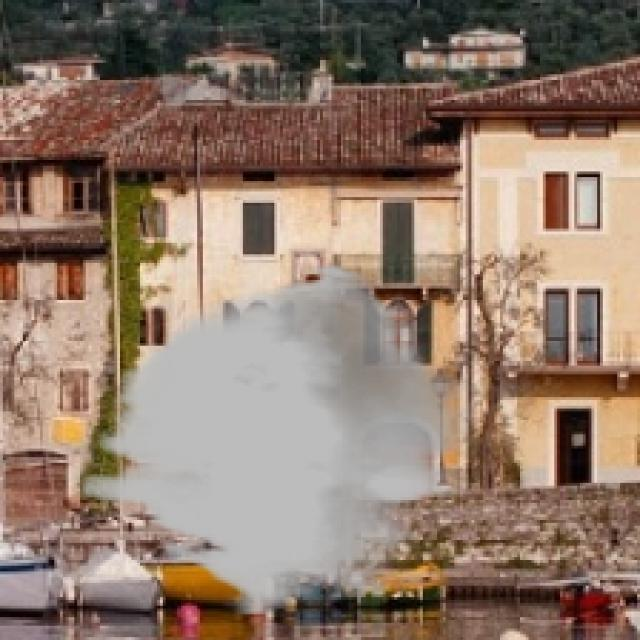smoke: (83, 263, 471, 617)
